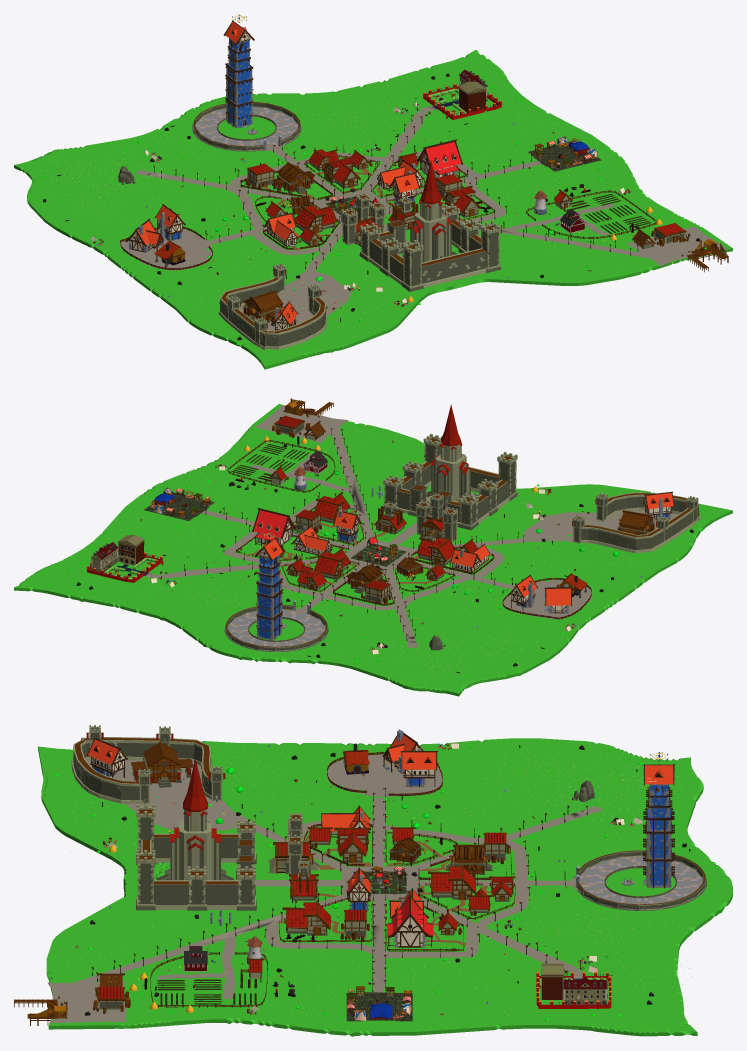
File: island_model_unchunked.glb
The picture shows the model from 3 angles, top to bottom: view 1: azimuth 30°, elevation 25°; view 2: azimuth 150°, elevation 25°; view 3: azimuth 270°, elevation 25°; orthographic projection. The views are drawn at different scales.
Parts seen in each view (by area): view 1: Cube.003, path, WonderWalls_SecondAge, Wall_SecondAge.002, House_3.001, Temple_SecondAge_Level2, Grid, Path_Straight.001, Plane.001, Barracks_SecondAge_Level3, Plane, Inn (+17 smaller); view 2: Cube.003, path, WonderWalls_SecondAge, Wall_SecondAge.002, House_3.001, Temple_SecondAge_Level2, Path_Straight.001, Grid, Barracks_SecondAge_Level3, Plane.001, Inn, Plane (+21 smaller); view 3: Cube.003, path, WonderWalls_SecondAge, Wall_SecondAge.002, Temple_SecondAge_Level2, House_3.001, Grid, Path_Straight.001, Plane.001, Plane, Inn, Wall_SecondAge (+26 smaller).
Part boxes in pixels (x1,y1,x2,y2): Cube.003: (14, 50, 732, 369); path: (136, 106, 648, 271); WonderWalls_SecondAge: (359, 203, 501, 291); Wall_SecondAge.002: (218, 276, 327, 349); House_3.001: (223, 20, 254, 128); Temple_SecondAge_Level2: (402, 160, 456, 262); Grid: (239, 271, 351, 330); Path_Straight.001: (192, 107, 301, 151); Plane.001: (120, 228, 212, 270); Barracks_SecondAge_Level3: (341, 193, 385, 246); Plane: (626, 226, 727, 266); Inn: (416, 139, 463, 177); Cube.003: (14, 404, 732, 696); path: (144, 428, 528, 647); WonderWalls_SecondAge: (383, 433, 517, 530); Wall_SecondAge.002: (578, 492, 700, 553); House_3.001: (254, 537, 284, 640); Temple_SecondAge_Level2: (427, 404, 478, 503); Path_Straight.001: (224, 609, 328, 651); Grid: (523, 510, 677, 543); Barracks_SecondAge_Level3: (416, 493, 457, 542); Plane.001: (502, 579, 592, 619); Inn: (251, 508, 295, 546); Plane: (255, 405, 348, 442); Cube.003: (38, 738, 732, 1036); path: (75, 798, 602, 999); WonderWalls_SecondAge: (136, 804, 256, 910); Wall_SecondAge.002: (71, 737, 217, 804); Temple_SecondAge_Level2: (157, 759, 233, 880); House_3.001: (643, 764, 675, 888); Grid: (87, 760, 247, 830); Path_Straight.001: (571, 856, 706, 910); Plane.001: (326, 754, 442, 796); Plane: (47, 981, 126, 1023); Inn: (386, 894, 433, 947); Wall_SecondAge: (576, 850, 705, 910).
Size of the model in its own units: 271 by 59.08 by 280.
Materials: 6 (6 with a texture image).
